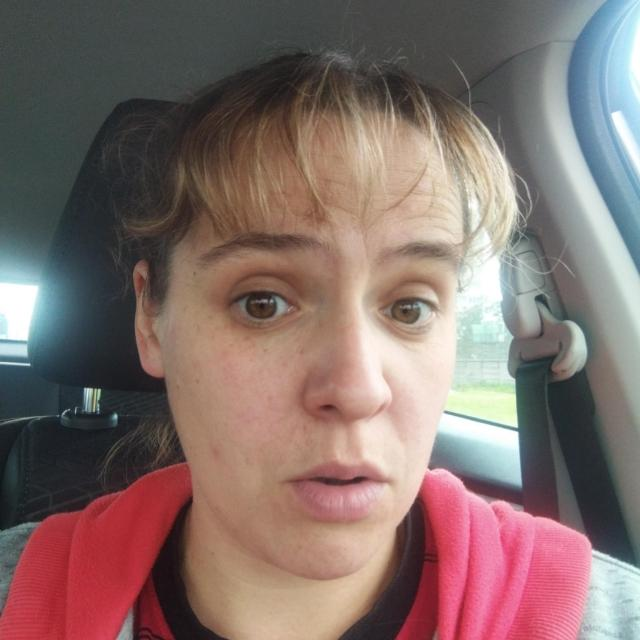Surprised: (115, 116, 491, 592)
